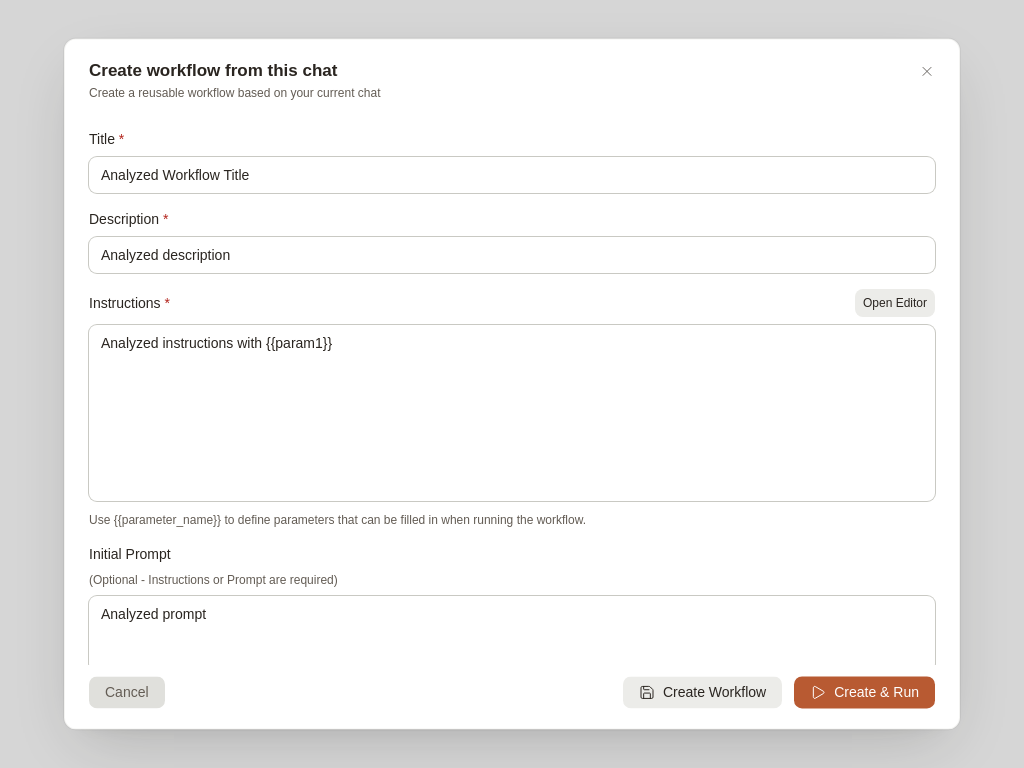
Scenario: CreateWorkflowFromSessionModal › Form Interactions › validates required fields
Expected: the button with test id "create-workflow-button" is shown, left=623, top=677, right=782, bottom=709
Clear the field with test id "title-input" at (512, 175), box left=89, top=157, right=935, bottom=193
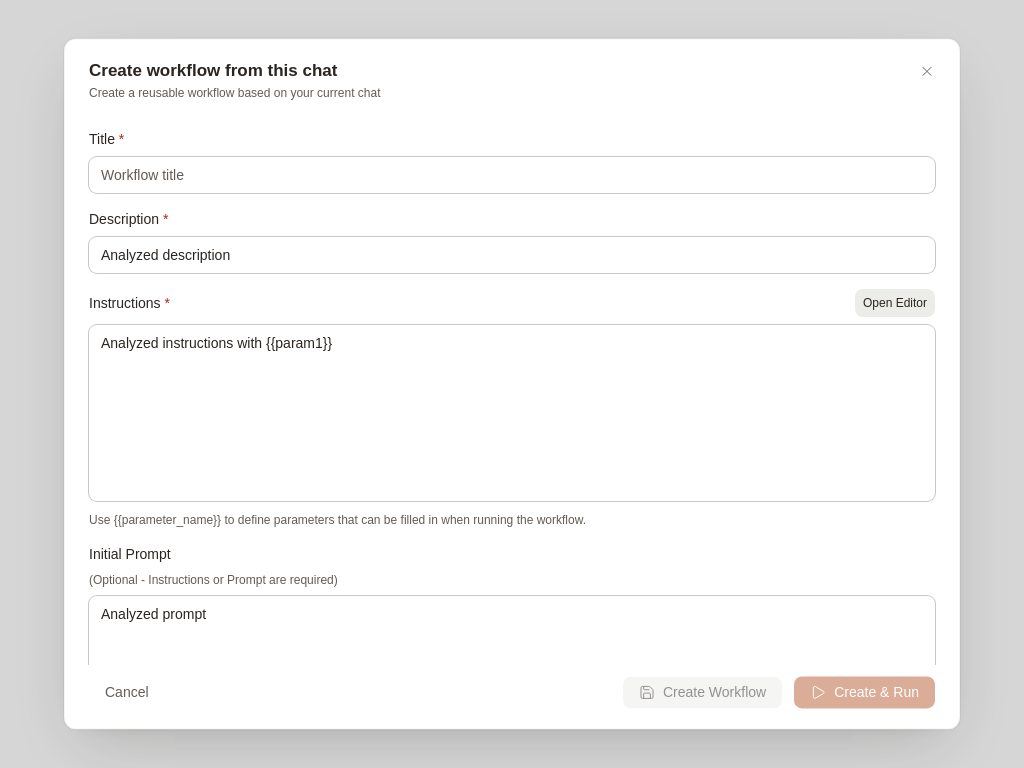
Result: the button with test id "create-workflow-button" is disabled at left=623, top=677, right=782, bottom=709
